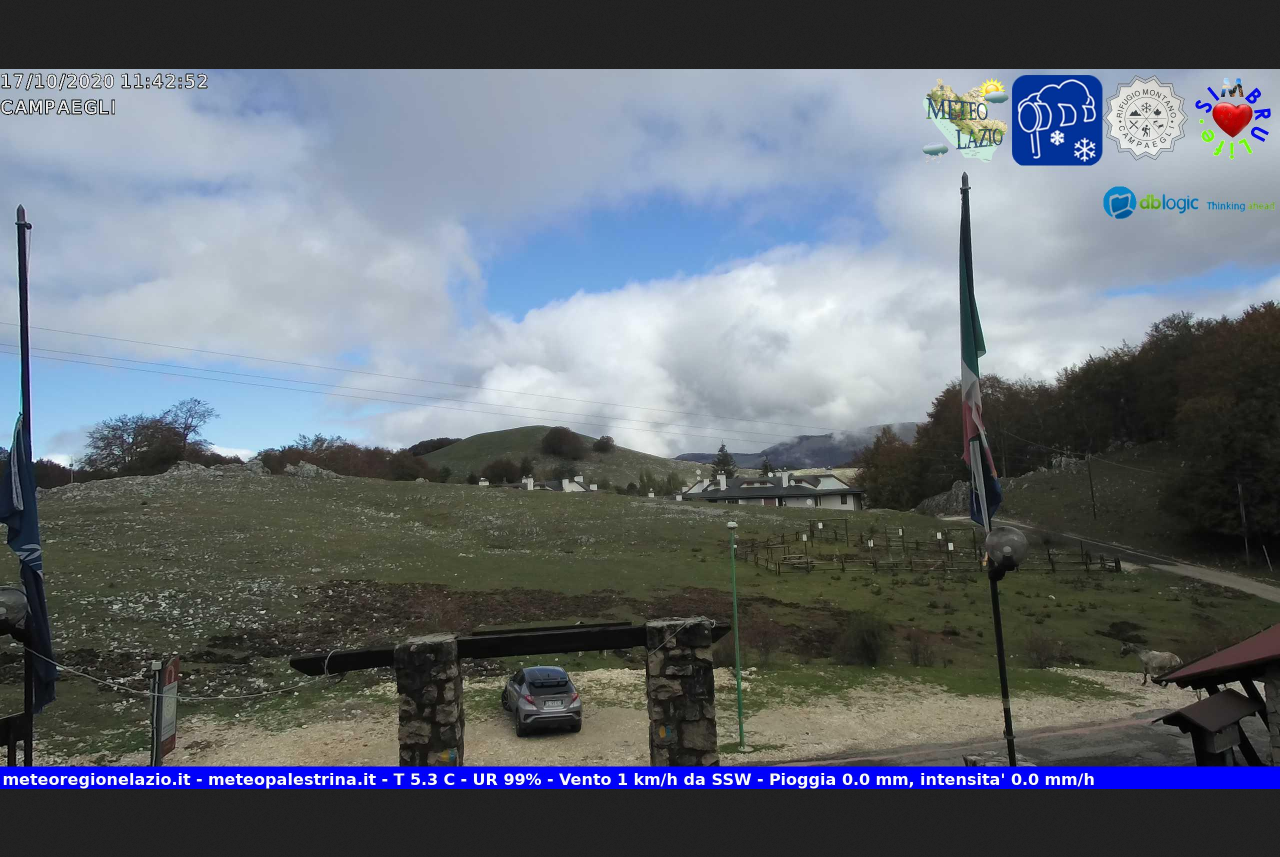no: (952, 176, 1012, 529), (1, 408, 62, 712)
